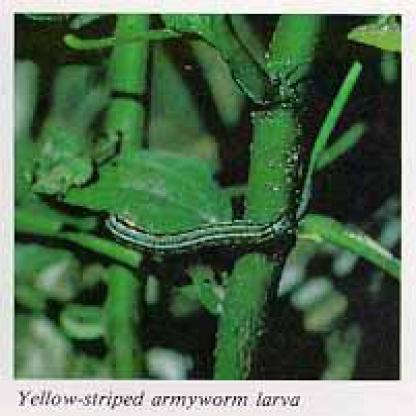armyworm: (94, 207, 302, 263)
